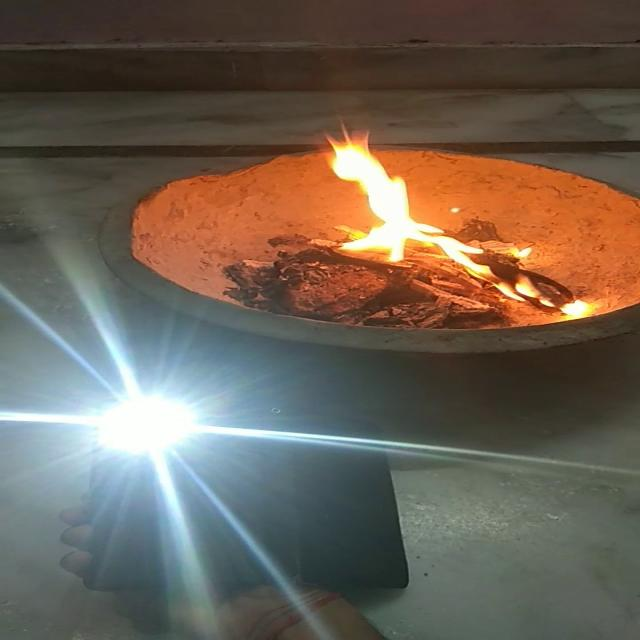fire: (320, 141, 558, 293)
